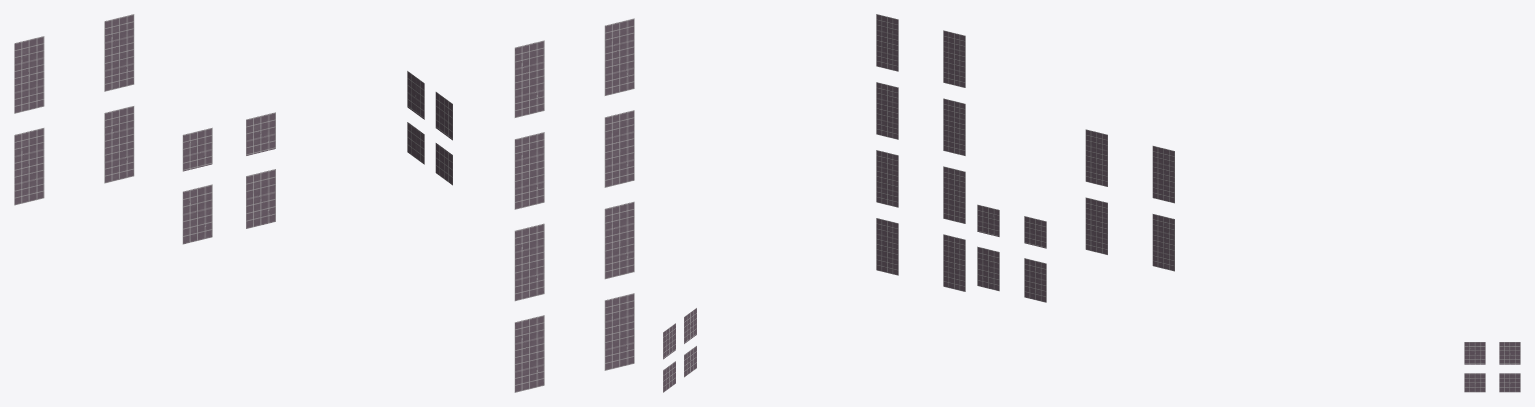
File: SM_Window_02.fbx
3 renders of one model, left to right at view 1: azimuth 30°, elevation 25°; view 2: azimuth 150°, elevation 25°; view 3: azimuth 270°, elevation 25°, orthographic. The views are drawn at different scales.
Parts seen in each view (by area): view 1: SM_Window_02; view 2: SM_Window_02; view 3: SM_Window_02.
Part boxes in pixels (x1,y1,x2,y2): SM_Window_02: (14, 14, 634, 392); SM_Window_02: (663, 14, 1174, 392); SM_Window_02: (1464, 342, 1520, 392).
Size of the model in its own units: 8603 by 5547 by 7084.
